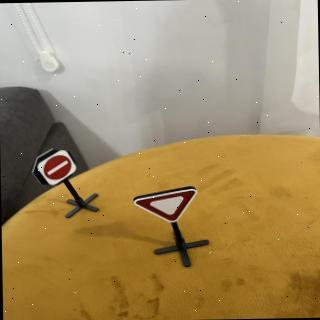sign_noentry: (36, 150, 79, 187)
sign_yield: (134, 188, 201, 225)
